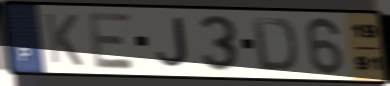3: (197, 14, 242, 74)
6: (304, 16, 346, 77)
D: (250, 15, 300, 74)
E: (85, 10, 138, 71)
J: (154, 16, 191, 69)
K: (42, 11, 86, 68)
